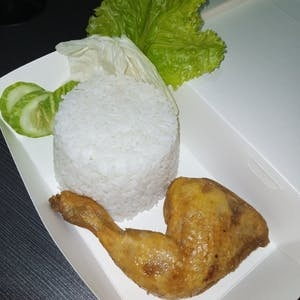ayam_goreng: (49, 175, 272, 300)
